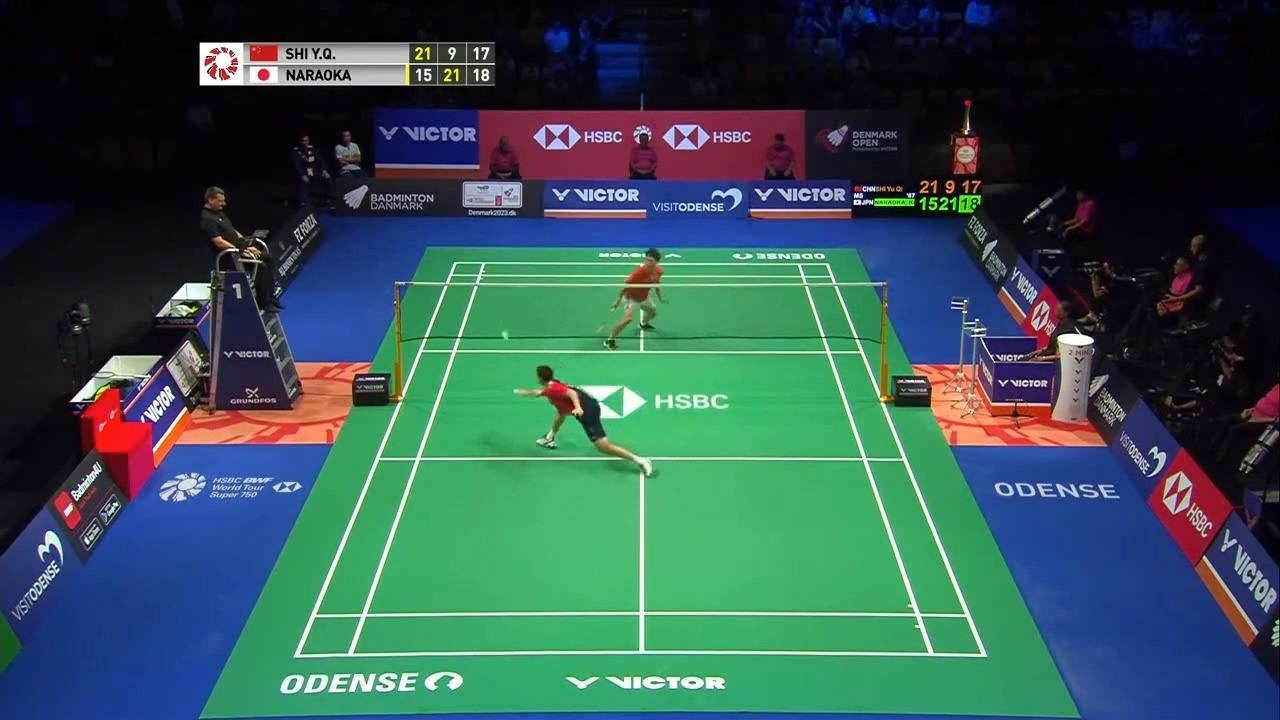shuttle: (501, 332, 512, 344)
